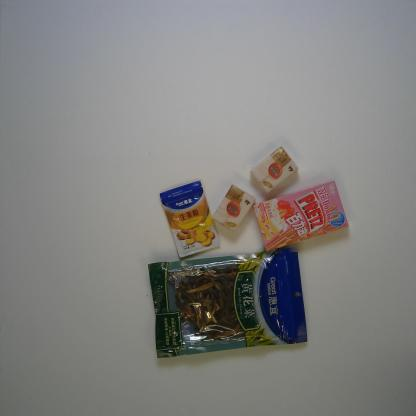Dessert: (252, 180, 349, 253)
Dried Food: (148, 245, 308, 358)
Seasoner: (160, 180, 221, 258)
Tissue: (249, 146, 300, 194), (210, 184, 256, 232)
